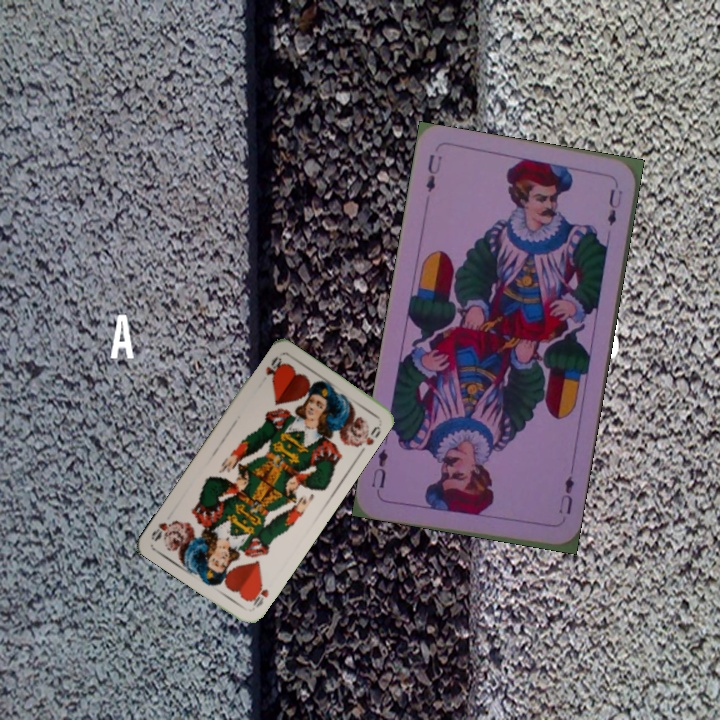EU: (422, 150, 445, 195), (555, 472, 577, 517)
HO: (246, 577, 271, 611), (261, 352, 284, 378)
